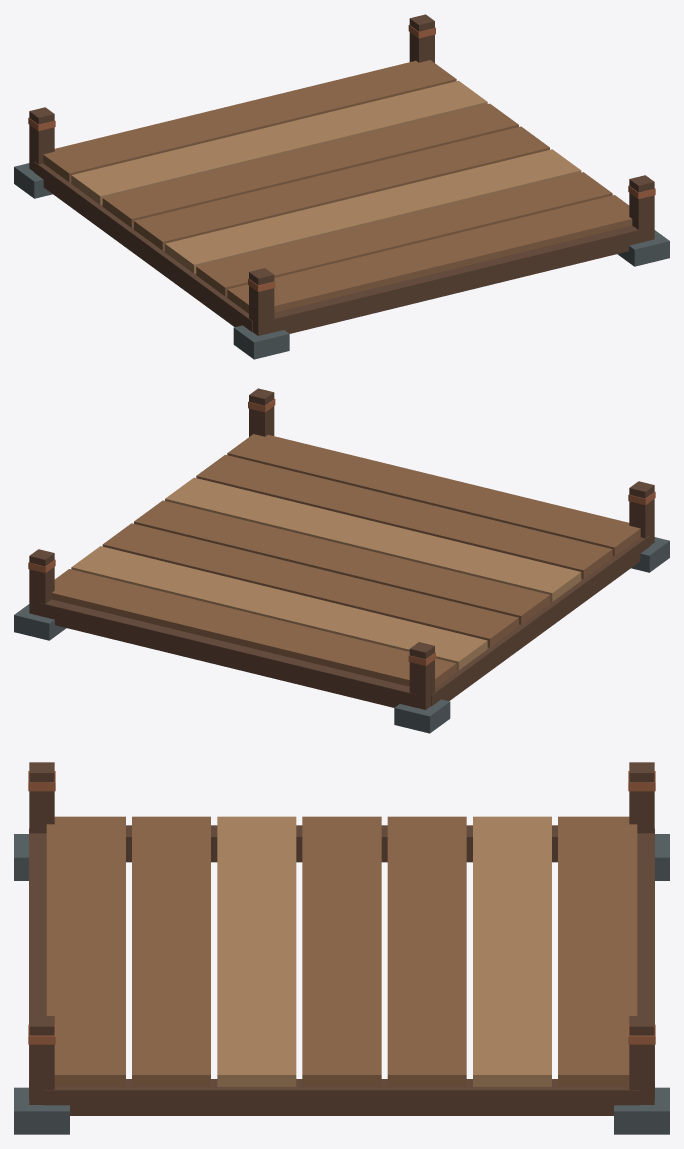
The model's file is Survact-cimientos-2x2-v01.glb.
3 renders of one model, top to bottom at view 1: azimuth 30°, elevation 25°; view 2: azimuth 150°, elevation 25°; view 3: azimuth 270°, elevation 25°, orthographic. The views are drawn at different scales.
Visible parts, largest first — view 1: Foundation; view 2: Foundation; view 3: Foundation.
Boxes of the visible parts, left/top/right/bottom form: Foundation: left=14, top=14, right=669, bottom=359; Foundation: left=14, top=388, right=669, bottom=733; Foundation: left=14, top=762, right=669, bottom=1134.
Size of the model in its own units: 1.93 by 0.331 by 1.93.
